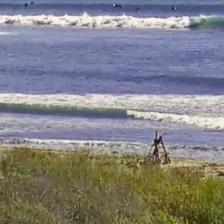surfer: (112, 4, 122, 9), (171, 6, 177, 12), (24, 2, 29, 9), (28, 0, 34, 5), (134, 8, 140, 12)
